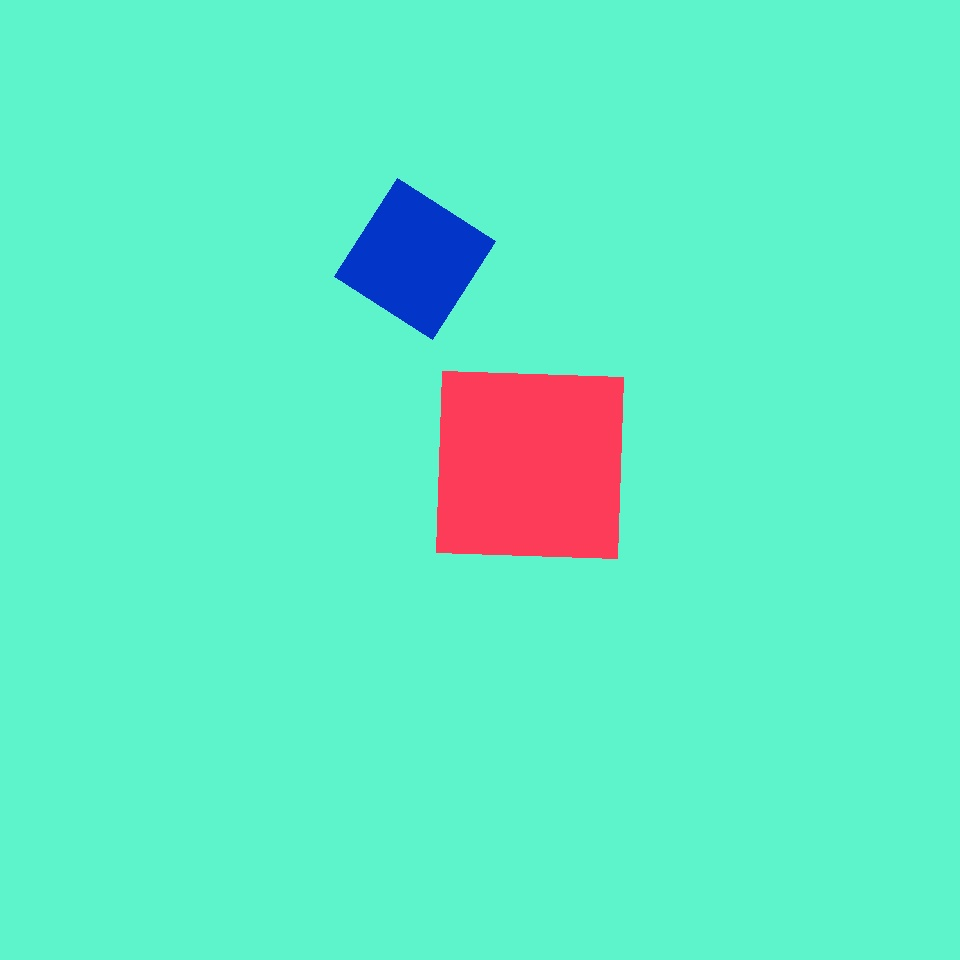circle: (572, 389, 837, 667)
square: (436, 372, 624, 558), (334, 178, 496, 340)
triangle: (387, 711, 512, 836)
